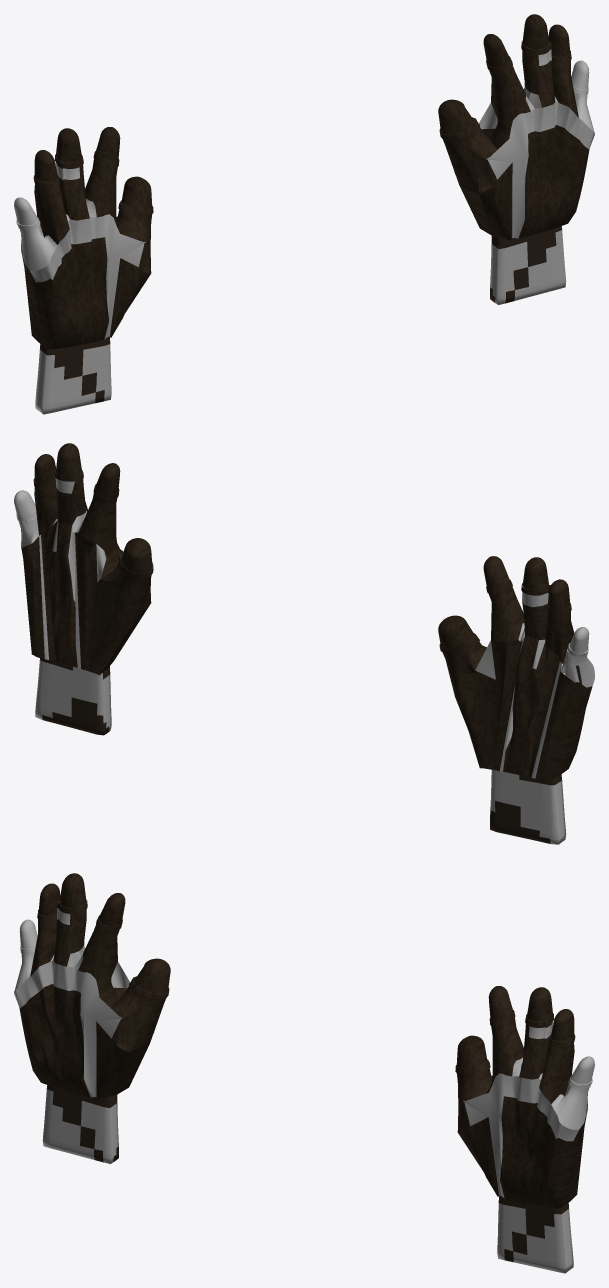
The model's file is Hand.fbx.
3 renders of one model, top to bottom at view 1: azimuth 30°, elevation 25°; view 2: azimuth 150°, elevation 25°; view 3: azimuth 330°, elevation 25°, orthographic.
Visible parts, largest first — view 1: Hand4, Hand2; view 2: Hand2, Hand4; view 3: Hand2, Hand4.
Part boxes in pixels (bbox=[...]): Hand4: bbox=[438, 14, 594, 304]; Hand2: bbox=[14, 127, 153, 414]; Hand2: bbox=[438, 556, 594, 844]; Hand4: bbox=[14, 443, 153, 735]; Hand2: bbox=[14, 873, 170, 1163]; Hand4: bbox=[455, 986, 594, 1273].
Size of the model in its own units: 25.73 by 12.01 by 2.65.
Materials: 2 (1 with a texture image).
